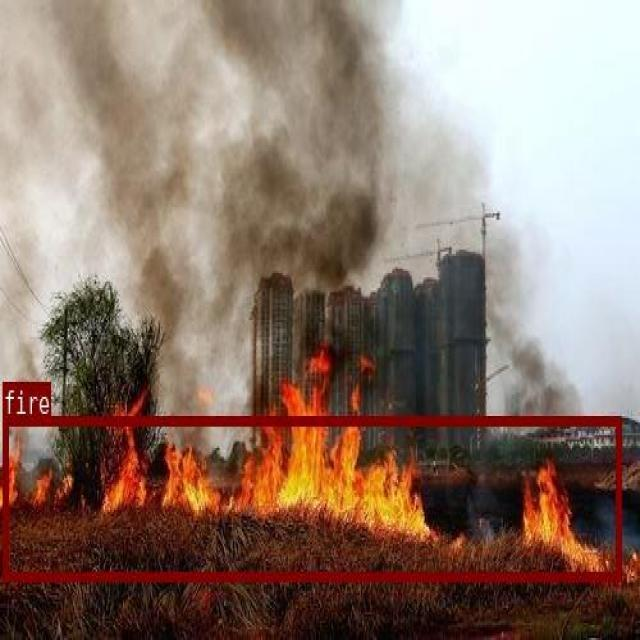fire: (1, 416, 620, 579)
